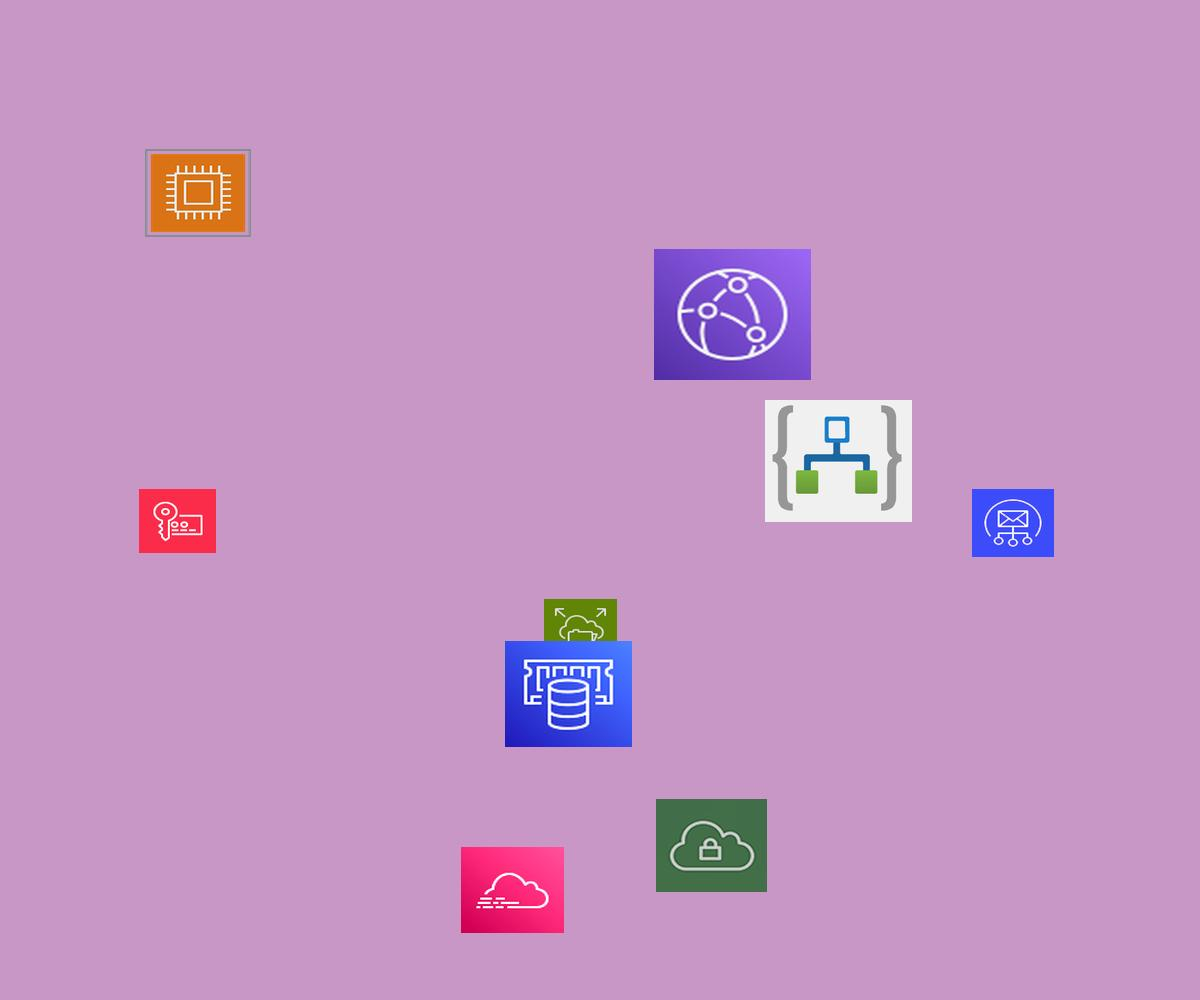AWS-Category_Compute: (145, 149, 251, 237)
AWS-CloudFront: (654, 249, 811, 380)
AWS-CloudTrail: (461, 847, 564, 933)
AWS-EFS: (544, 599, 617, 660)
AWS-ElastiCache: (505, 641, 632, 747)
AWS-Key-Management-Service: (139, 489, 216, 553)
AWS-Private_vpc: (656, 799, 767, 892)
AWS-Simple-Email-Service: (972, 489, 1054, 557)
Azure_integration-204-Logic-Apps: (765, 400, 912, 522)
